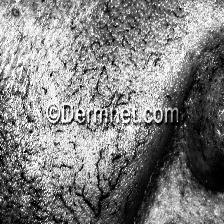Benign Marking or Mole: (0, 152, 149, 224), (60, 2, 191, 82), (0, 39, 48, 130)
